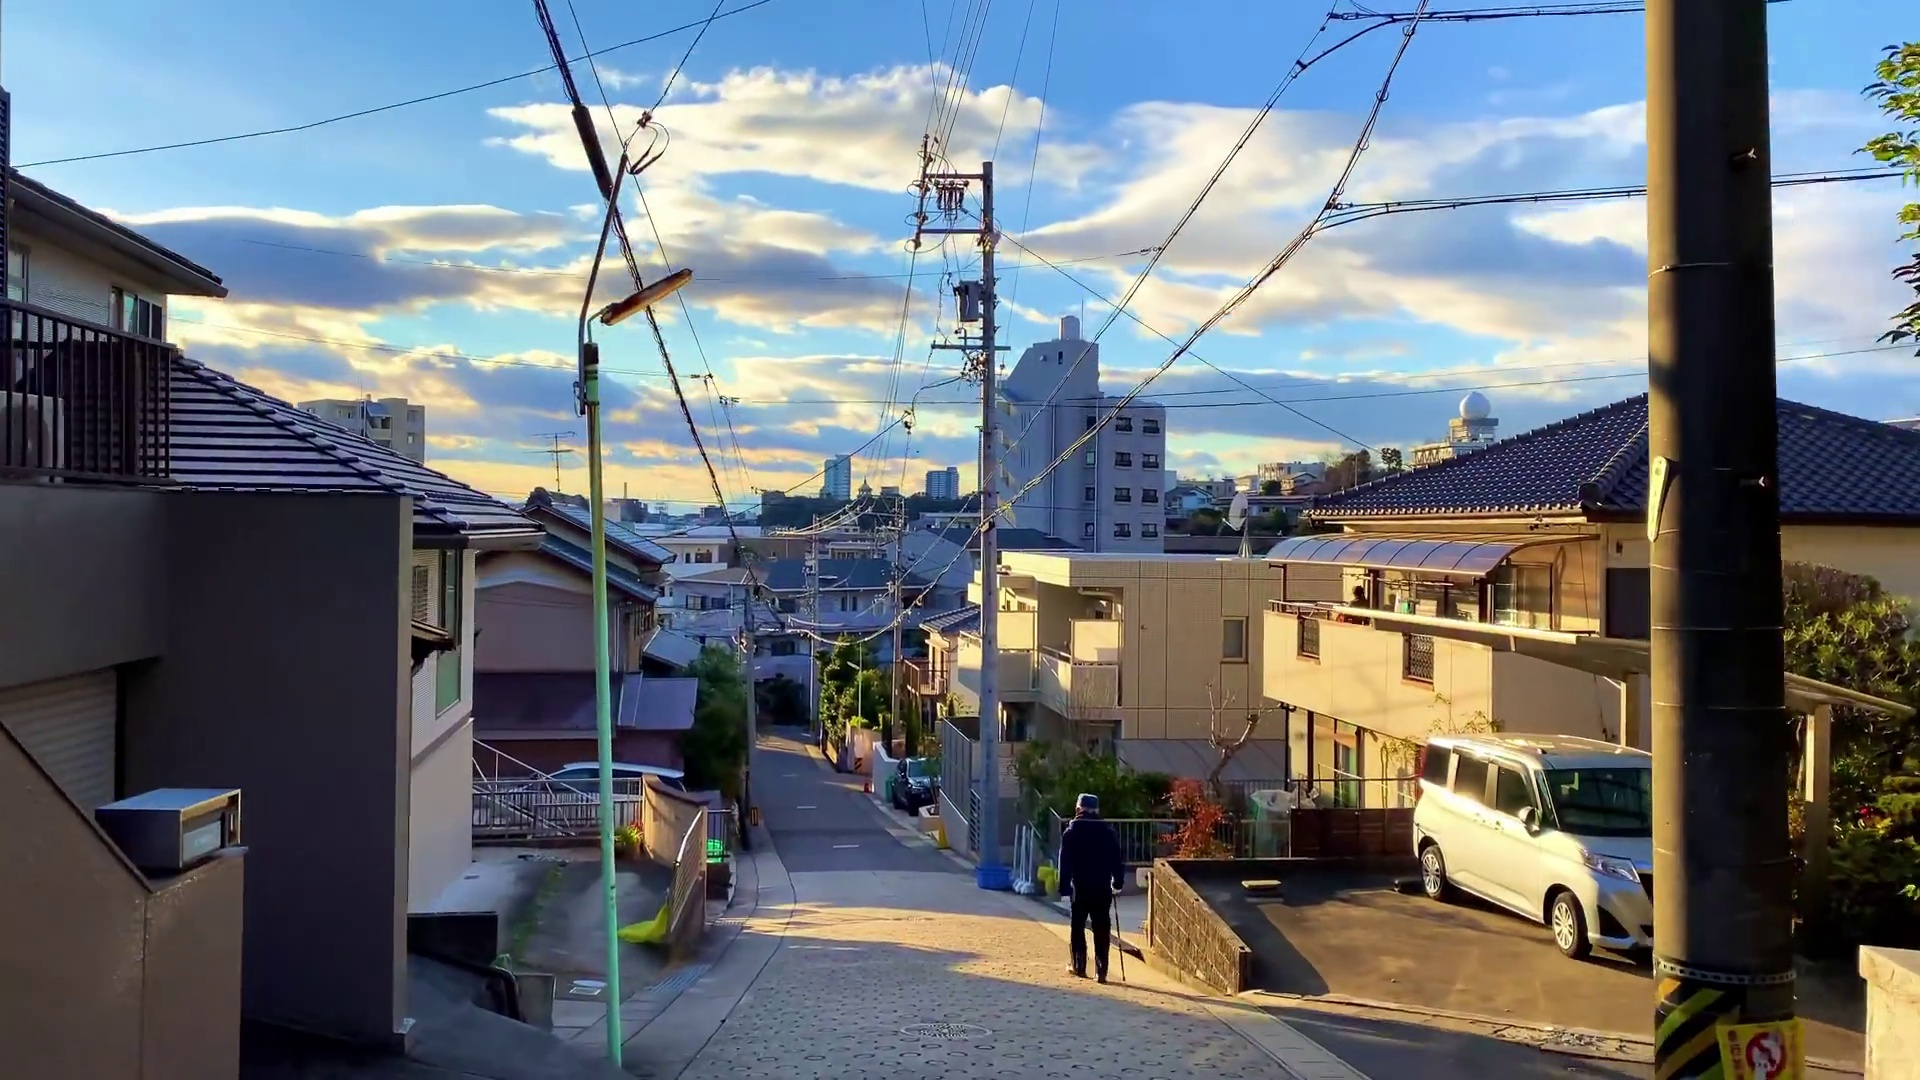person: (1061, 793, 1130, 986)
